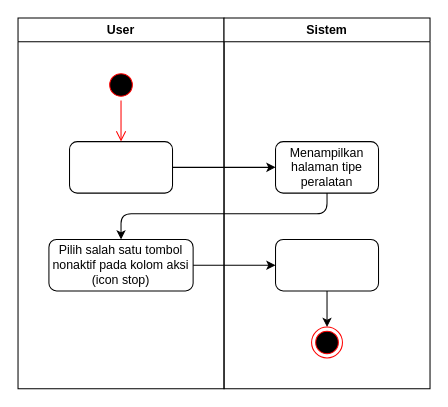
This 448x407 diagram has some shape labels left out. Each missing label, with the centre of its shape:
"Pilih fitur tipe peralatan" goes at point (120, 167).
"Tipe Peralatan berhasil dinonaktifkan" goes at point (326, 264).
